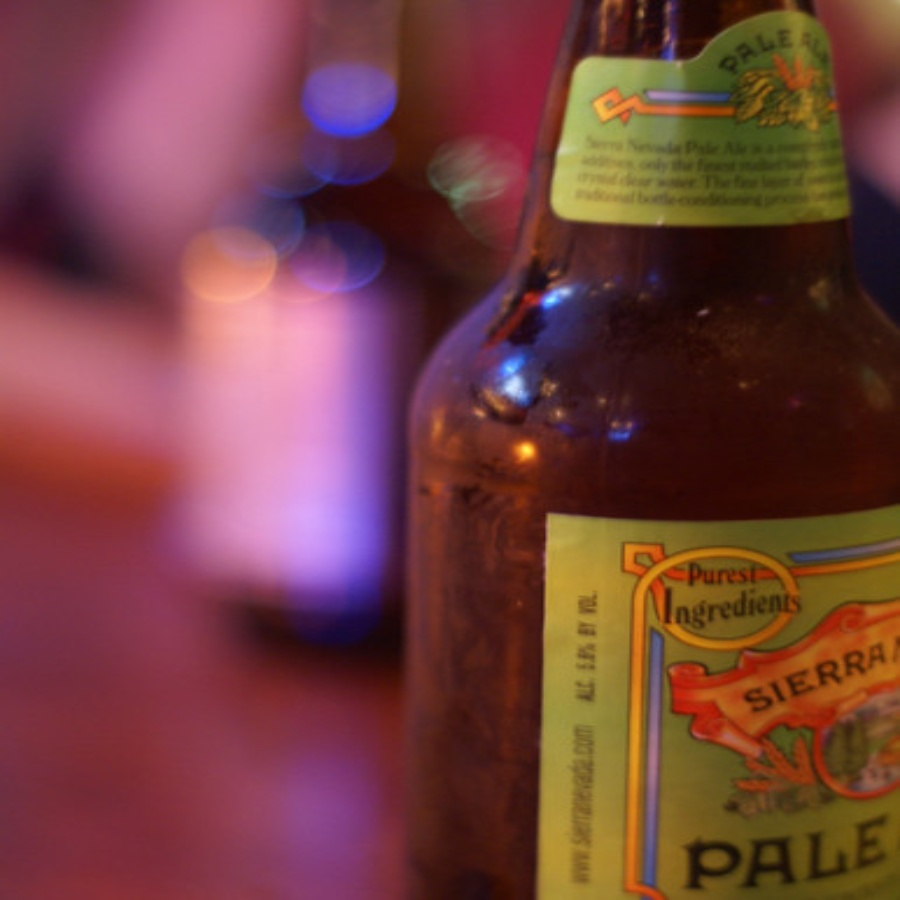beer: (405, 20, 900, 830)
